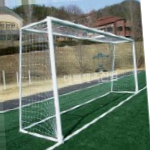goals: (17, 13, 141, 140)
